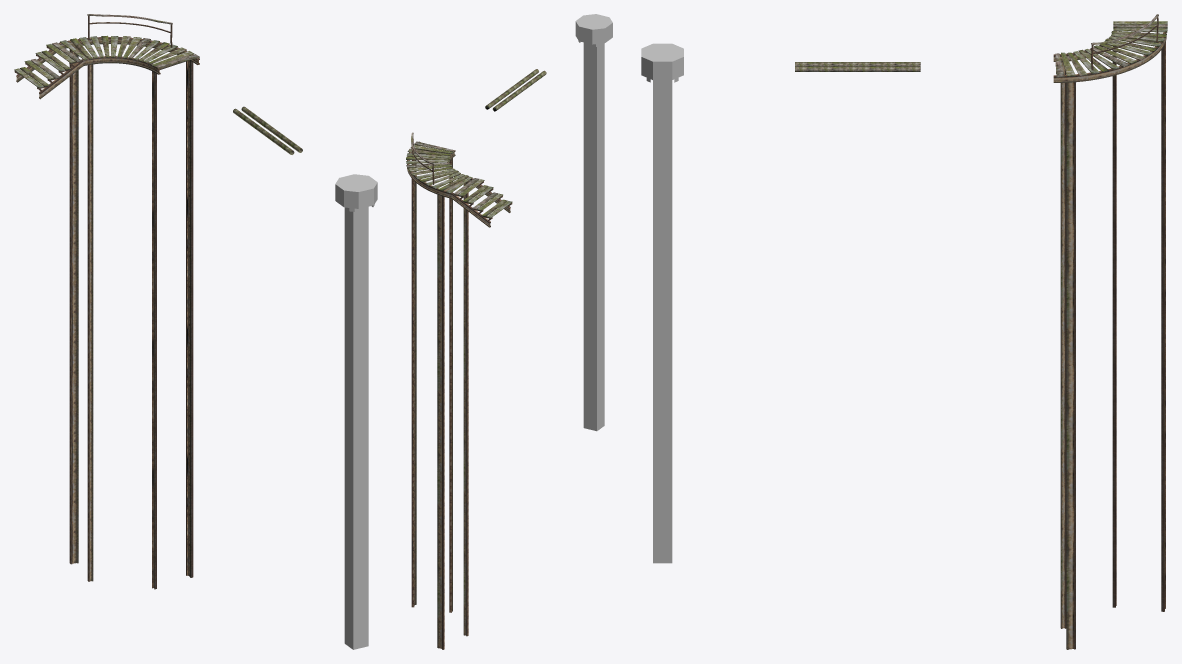
The picture shows the model from 3 angles, left to right: view 1: azimuth 30°, elevation 25°; view 2: azimuth 150°, elevation 25°; view 3: azimuth 270°, elevation 25°; orthographic projection. The views are drawn at different scales.
Parts seen in each view (by area): view 1: ramp.009, hakkero, ramp.010, pipe.001; view 2: ramp.009, hakkero, ramp.010, pipe.001; view 3: ramp.009, hakkero, pipe.001.
Part boxes in pixels (x1,y1,x2,y2): ramp.009: (59,35,199,589); hakkero: (335,174,377,649); ramp.010: (14,42,83,99); pipe.001: (233,106,302,154); ramp.009: (406,141,472,649); hakkero: (575,14,612,431); ramp.010: (452,178,512,227); pipe.001: (485,69,546,111); ramp.009: (1053,28,1167,649); hakkero: (641,43,683,563); pipe.001: (795,62,920,71).
Bounding box in the file's own units: 631 × 2439 × 1935.
